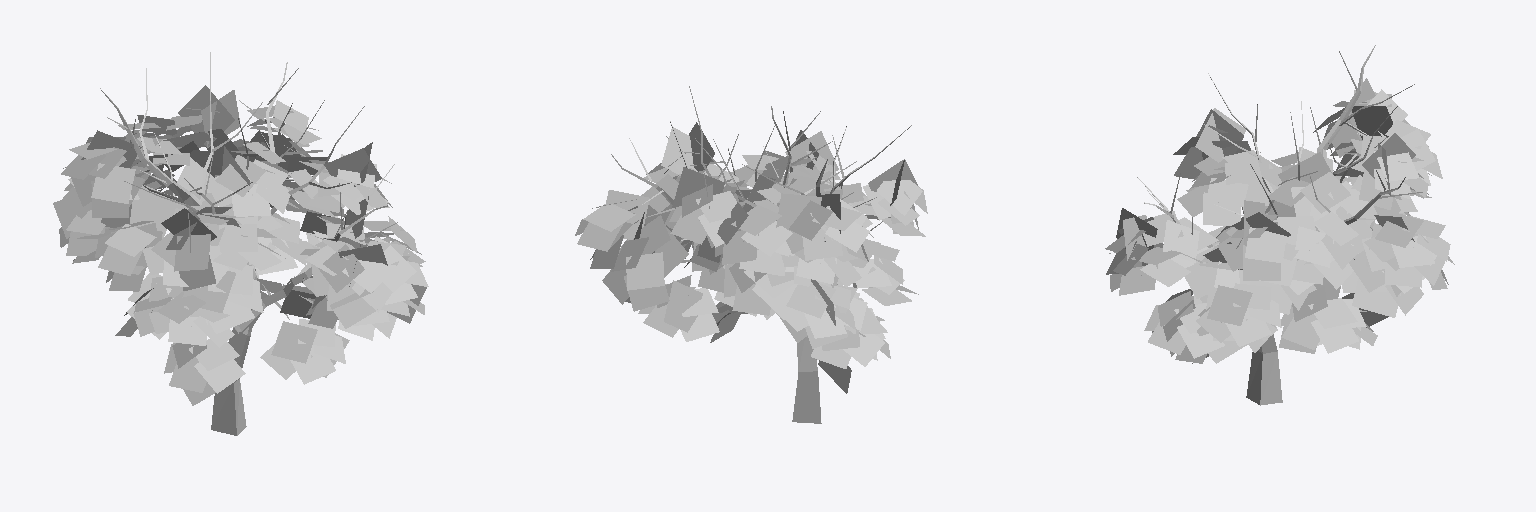
File: tree4a_lod2.obj
3 views of the same model, side by side, from view 1: azimuth 30°, elevation 25°; view 2: azimuth 150°, elevation 25°; view 3: azimuth 270°, elevation 25° (orthographic).
Visible parts, largest first — view 1: leaves 0.0 0.[number redacted] 0.0 0 0 0 0.[number redacted] 0.[number redacted], bark 0.[number redacted] -0.[number redacted] -0.[number redacted]; view 2: leaves 0.0 0.[number redacted] 0.0 0 0 0 0.[number redacted] 0.[number redacted], bark 0.[number redacted] -0.[number redacted] -0.[number redacted]; view 3: leaves 0.0 0.[number redacted] 0.0 0 0 0 0.[number redacted] 0.[number redacted], bark 0.[number redacted] -0.[number redacted] -0.[number redacted].
Part boxes in pixels (bbox=[...]): leaves 0.0 0.[number redacted] 0.0 0 0 0 0.[number redacted] 0.[number redacted]: bbox=[53, 85, 428, 405]; bark 0.[number redacted] -0.[number redacted] -0.[number redacted]: bbox=[100, 52, 397, 435]; leaves 0.0 0.[number redacted] 0.0 0 0 0 0.[number redacted] 0.[number redacted]: bbox=[575, 122, 927, 393]; bark 0.[number redacted] -0.[number redacted] -0.[number redacted]: bbox=[611, 86, 911, 423]; leaves 0.0 0.[number redacted] 0.0 0 0 0 0.[number redacted] 0.[number redacted]: bbox=[1105, 78, 1454, 363]; bark 0.[number redacted] -0.[number redacted] -0.[number redacted]: bbox=[1137, 45, 1422, 405].
Size of the model in its own units: 0.9642 by 1 by 1.